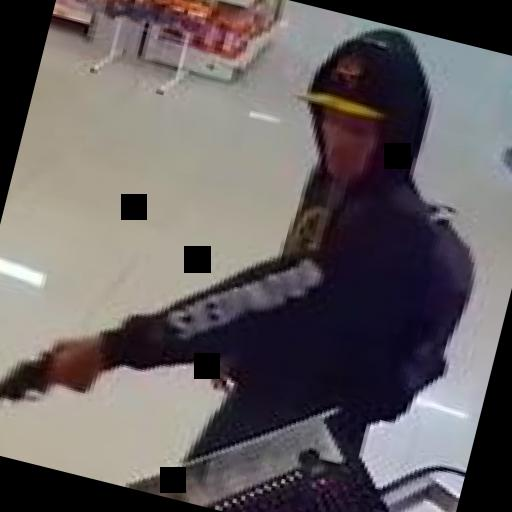Handgun: (0, 321, 104, 431)
